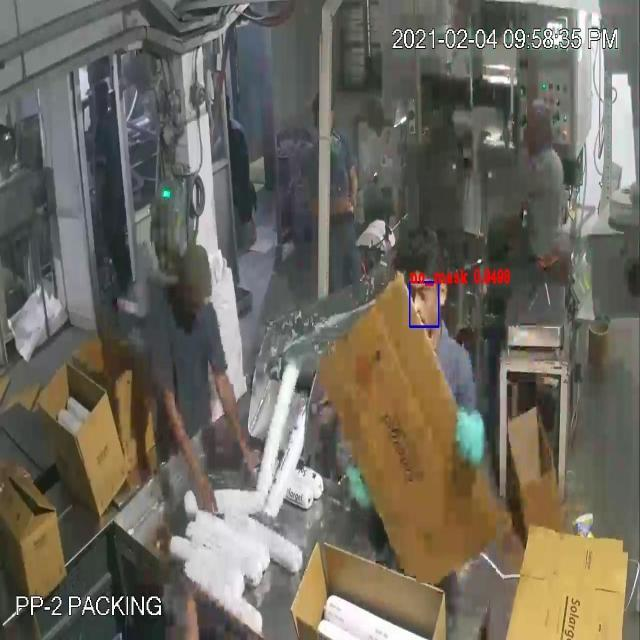No_Gloves: (22, 63, 470, 446)
